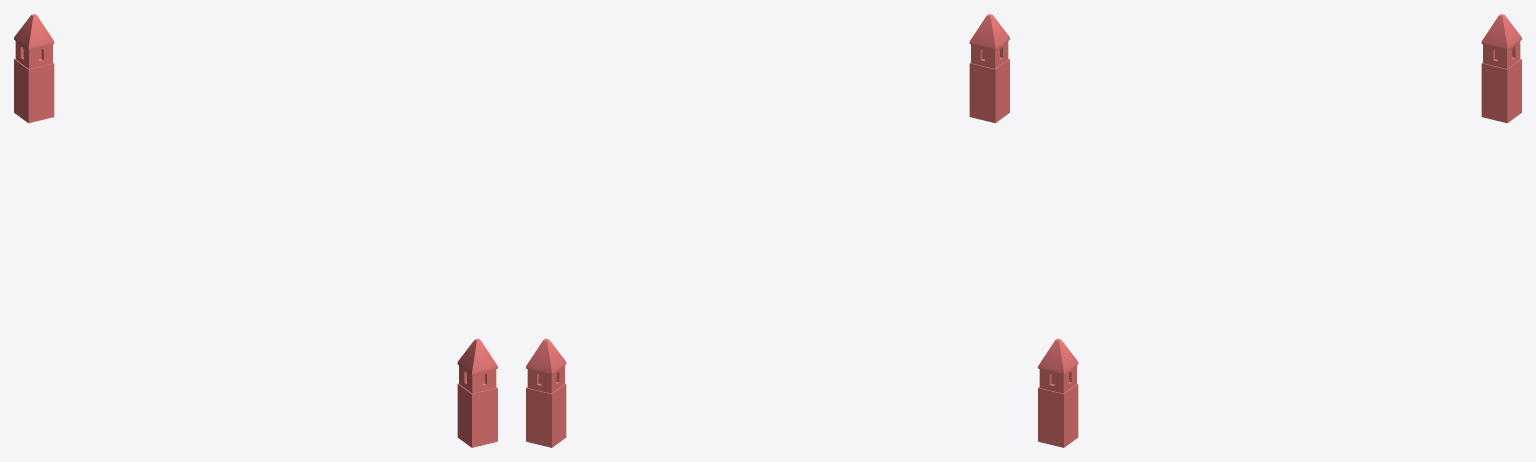
Rendered from TowersBack.fbx.
The picture shows the model from 3 angles, left to right: view 1: azimuth 30°, elevation 25°; view 2: azimuth 150°, elevation 25°; view 3: azimuth 330°, elevation 25°; orthographic projection.
Parts seen in each view (by area): view 1: Box090; view 2: Box090; view 3: Box090.
Boxes of the visible parts, x1=… form: Box090: x1=14, y1=14, x2=497, y2=447; Box090: x1=526, y1=14, x2=1009, y2=447; Box090: x1=1038, y1=14, x2=1521, y2=447.
Bounding box in the file's own units: 128 × 3936 × 473.
